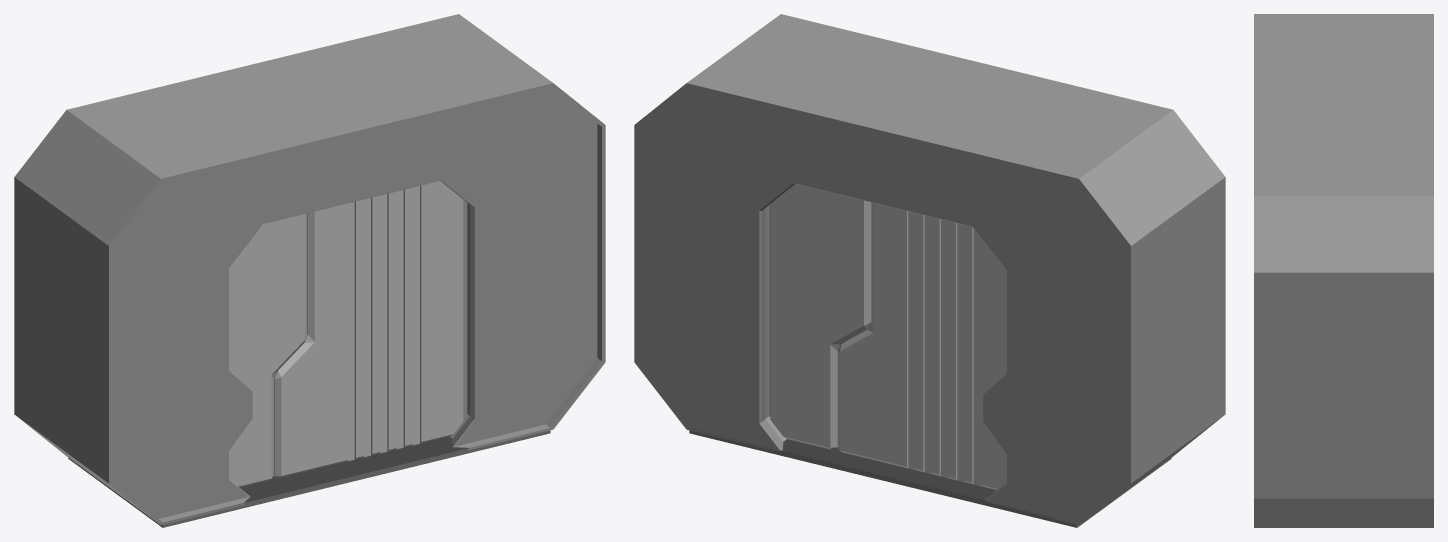
Rendered from Hallway_Door.fbx.
3 renders of one model, left to right at view 1: azimuth 30°, elevation 25°; view 2: azimuth 150°, elevation 25°; view 3: azimuth 270°, elevation 25°, orthographic. The views are drawn at different scales.
Parts seen in each view (by area): view 1: normal Hallway.023, Cube.016, Cube.017; view 2: normal Hallway.023, Cube.015, Cube.014; view 3: normal Hallway.023.
Boxes of the visible parts, left/top/right/bottom form: normal Hallway.023: left=14, top=14, right=605, bottom=527; Cube.016: left=274, top=181, right=463, bottom=477; Cube.017: left=229, top=213, right=307, bottom=487; normal Hallway.023: left=634, top=14, right=1225, bottom=527; Cube.015: left=837, top=202, right=1006, bottom=489; Cube.014: left=770, top=184, right=871, bottom=449; normal Hallway.023: left=1254, top=14, right=1433, bottom=527.
Bounding box in the file's own units: 607 × 408 × 200.
